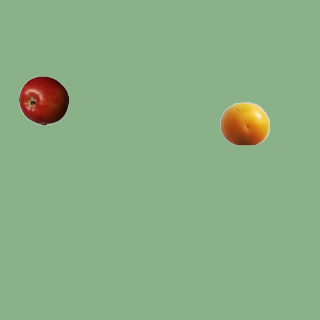Apple Braeburn: (18, 75, 68, 125)
Cherry Wax Yellow: (219, 98, 269, 148)
